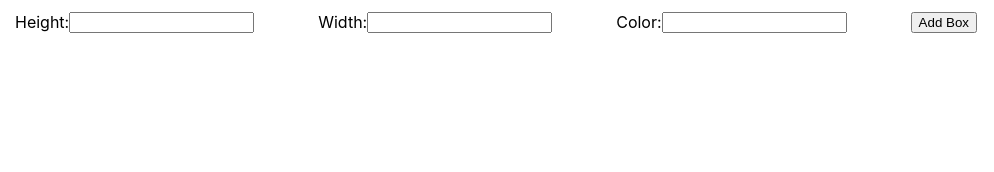
Test: can add a new box
Type "20" into the number field labelled "Height:".
click(162, 22); type("20")  # box [69, 12, 254, 33]
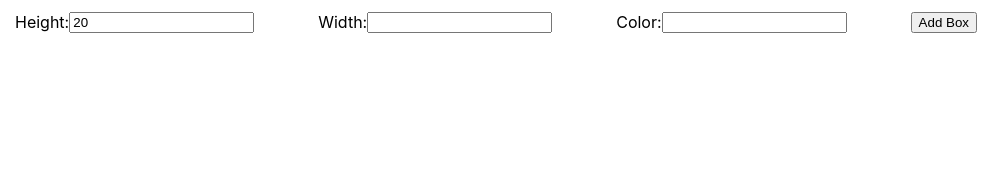
Type "20" into the number field labelled "Width:".
click(460, 22); type("20")  # box [367, 12, 552, 33]
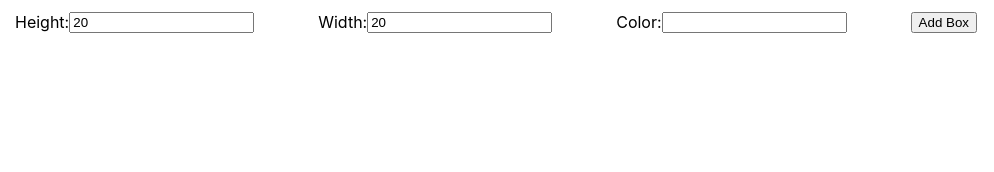
Type "blue" into the field labelled "Color:".
click(754, 22); type("blue")  # box [662, 12, 847, 33]
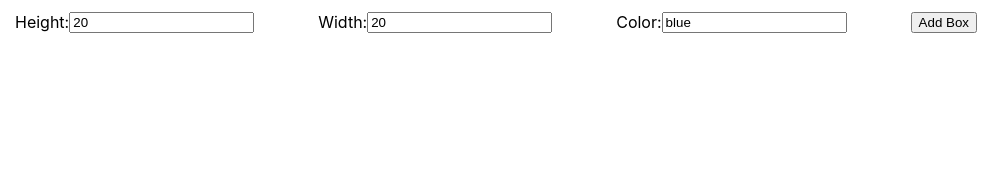
Click the button "Add Box".
click(944, 22)  # box [911, 12, 977, 33]
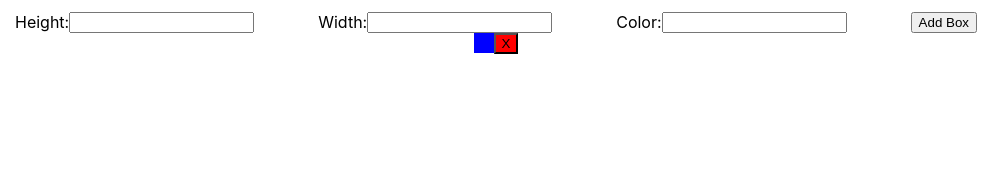
Result: the element showing "X" is shown at [474, 33, 518, 54]
